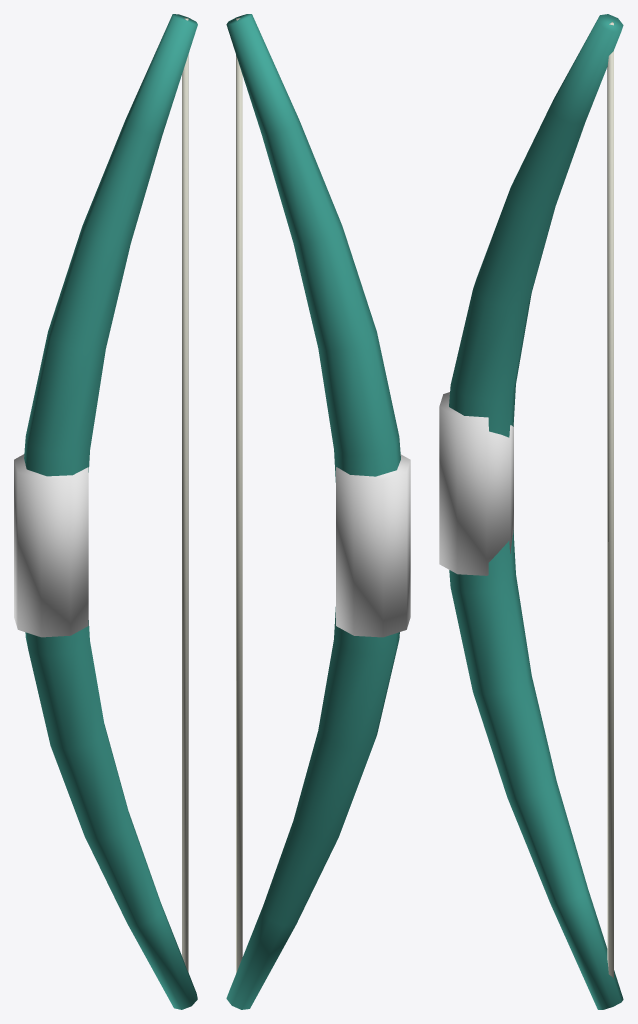
File: tsunami.glb
3 renders of one model, left to right at view 1: azimuth 30°, elevation 25°; view 2: azimuth 150°, elevation 25°; view 3: azimuth 330°, elevation 25°, orthographic.
Visible parts, largest first — view 1: tsunami_v0; view 2: tsunami_v0; view 3: tsunami_v0.
Part boxes in pixels (x1,y1,x2,y2): tsunami_v0: [14, 14, 197, 1009]; tsunami_v0: [226, 14, 410, 1009]; tsunami_v0: [439, 14, 623, 1009].
Size of the model in its own units: 0.2132 by 1.13 by 0.08.
